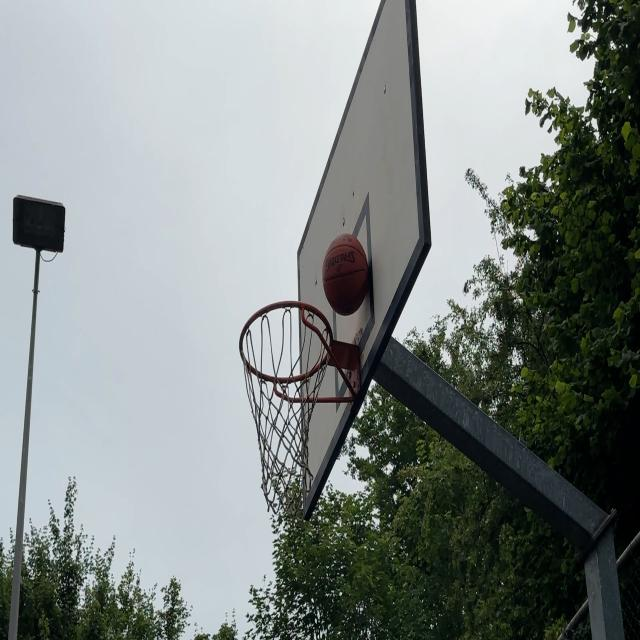rebound_hit: (323, 232, 373, 315)
